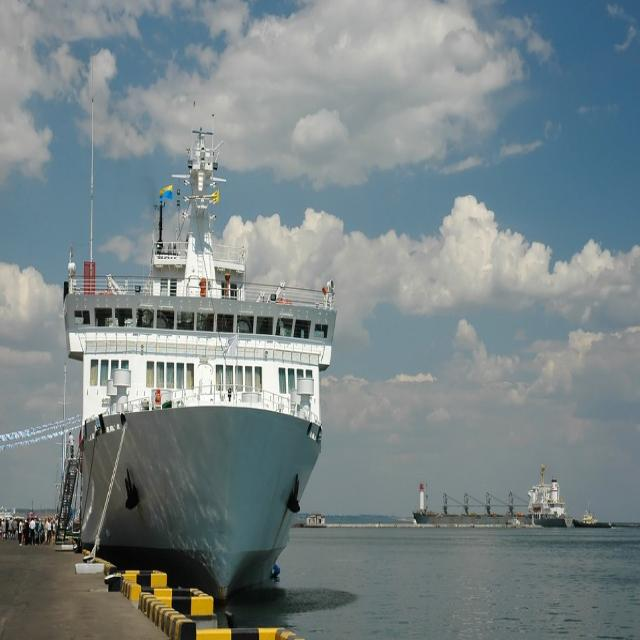cargoship: (409, 468, 571, 531)
houseboat: (571, 502, 609, 532)
passenger ship: (58, 131, 322, 588)
